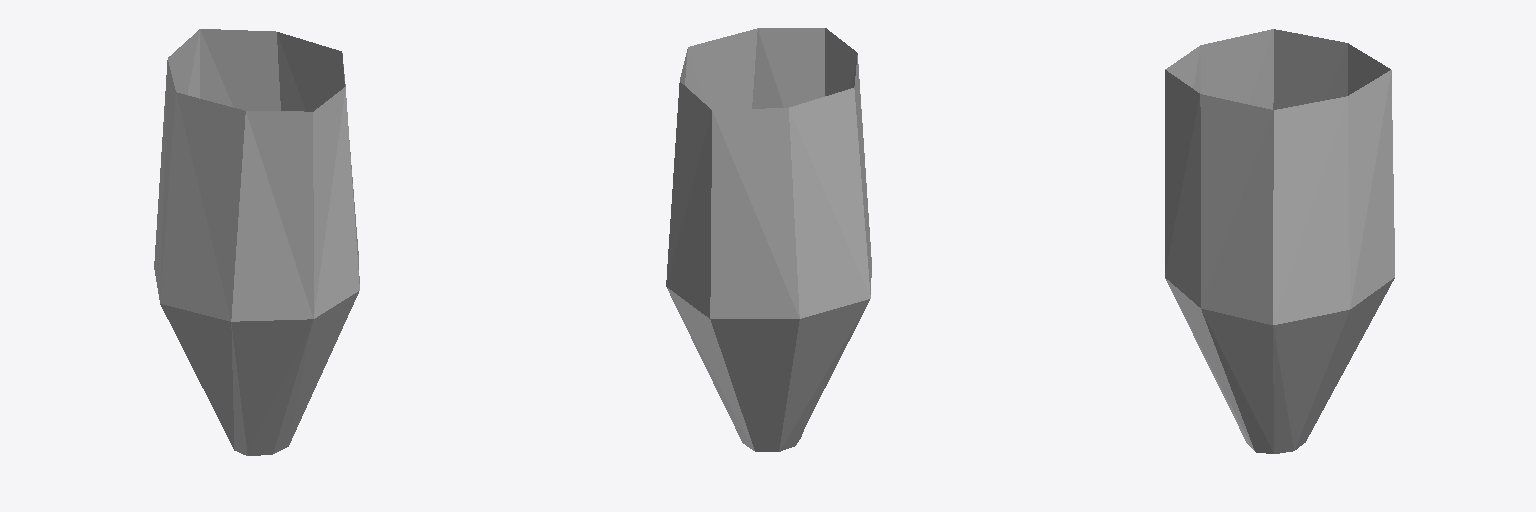
The model's file is queue_2.obj.
3 renders of one model, left to right at view 1: azimuth 30°, elevation 25°; view 2: azimuth 150°, elevation 25°; view 3: azimuth 270°, elevation 25°, orthographic.
Parts seen in each view (by area): view 1: queue2_Wolf.004; view 2: queue2_Wolf.004; view 3: queue2_Wolf.004.
Part boxes in pixels (x1,y1,x2,y2): queue2_Wolf.004: (154, 29, 359, 455); queue2_Wolf.004: (666, 28, 871, 451); queue2_Wolf.004: (1165, 29, 1394, 453).
Size of the model in its own units: 15.44 by 27.68 by 15.53.